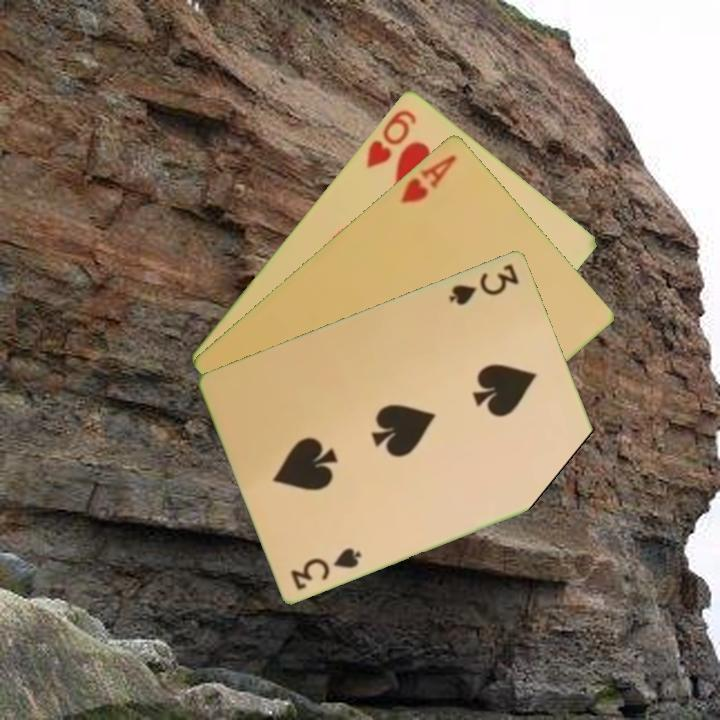3s: (287, 543, 365, 593), (445, 260, 522, 308)
6h: (362, 105, 420, 171)
Ah: (397, 150, 459, 206)
